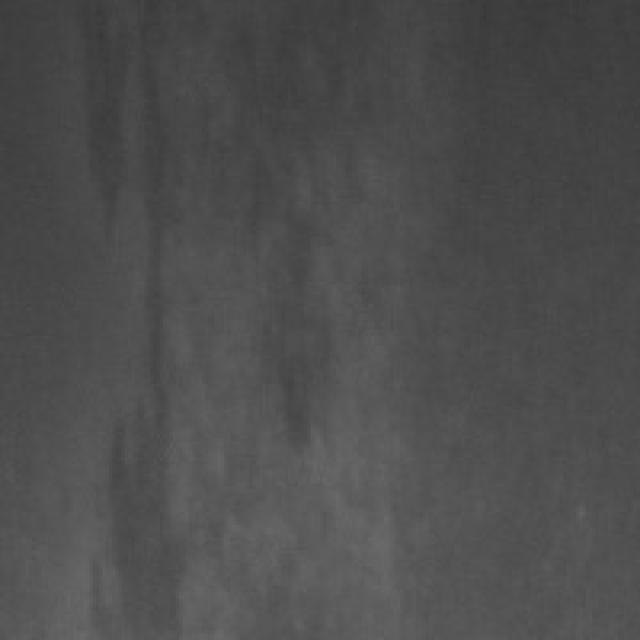inclusion: (77, 0, 186, 630), (246, 141, 336, 451)
